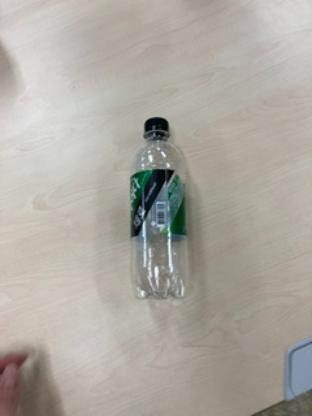Plastic Bottle: (128, 112, 190, 306)
